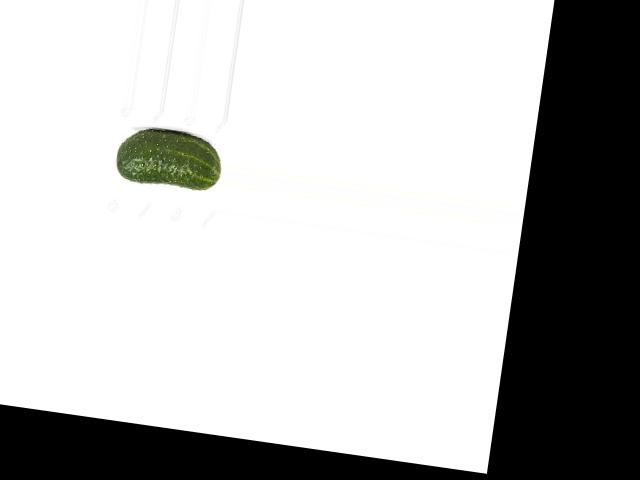cucumber: (113, 123, 225, 192)
